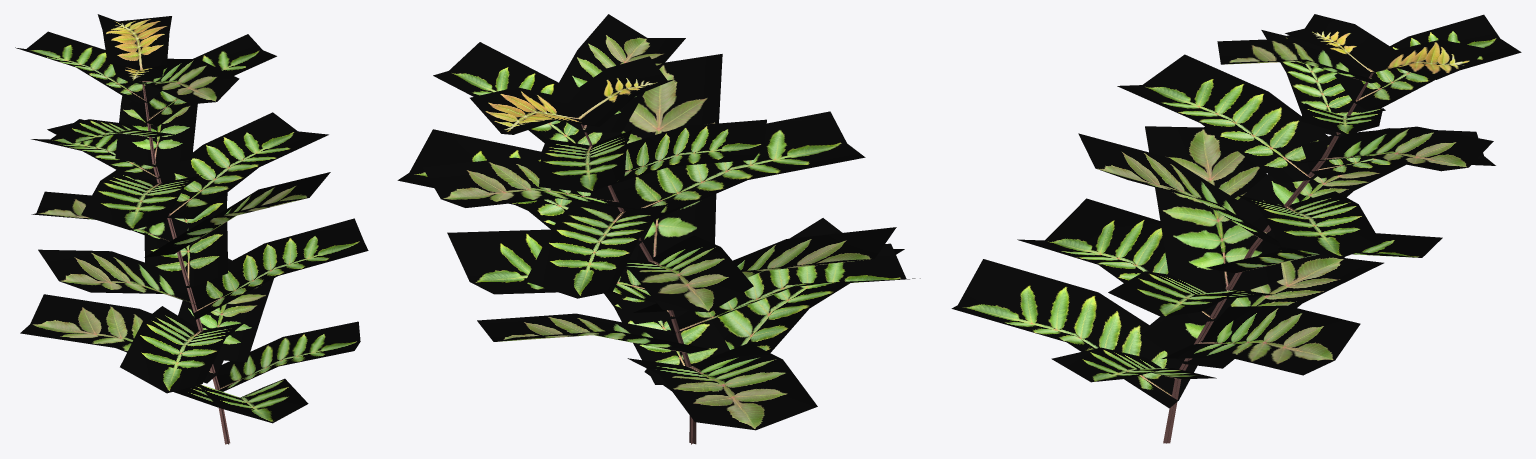
File: m_grass_31_2.fbx
3 views of the same model, side by side, from view 1: azimuth 30°, elevation 25°; view 2: azimuth 150°, elevation 25°; view 3: azimuth 270°, elevation 25° (orthographic). The views are drawn at different scales.
Visible parts, largest first — view 1: mesh_grass_31_2_LOD0; view 2: mesh_grass_31_2_LOD0; view 3: mesh_grass_31_2_LOD0.
Boxes of the visible parts, x1,y1,x2,y2 form: mesh_grass_31_2_LOD0: (15, 14, 368, 444); mesh_grass_31_2_LOD0: (397, 14, 920, 444); mesh_grass_31_2_LOD0: (951, 14, 1521, 443).
Size of what is drawn, in the model's own units: 99.79 by 106 by 136.
